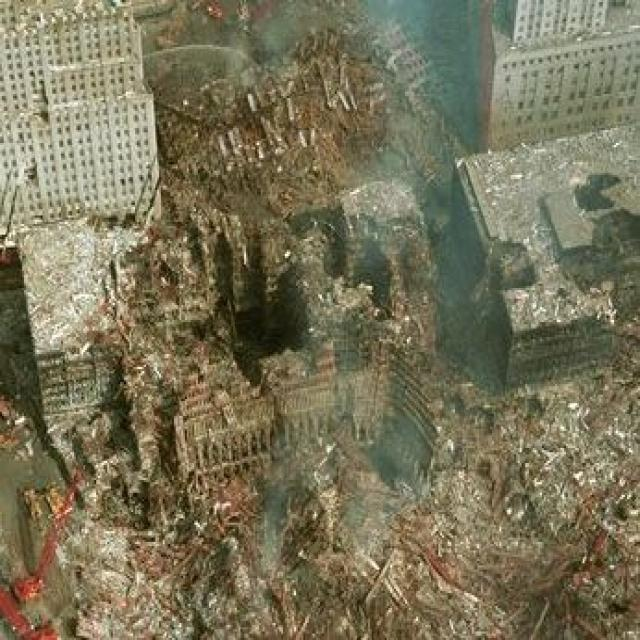collapsed_building: (21, 186, 452, 480), (150, 32, 459, 183), (464, 156, 638, 367)
